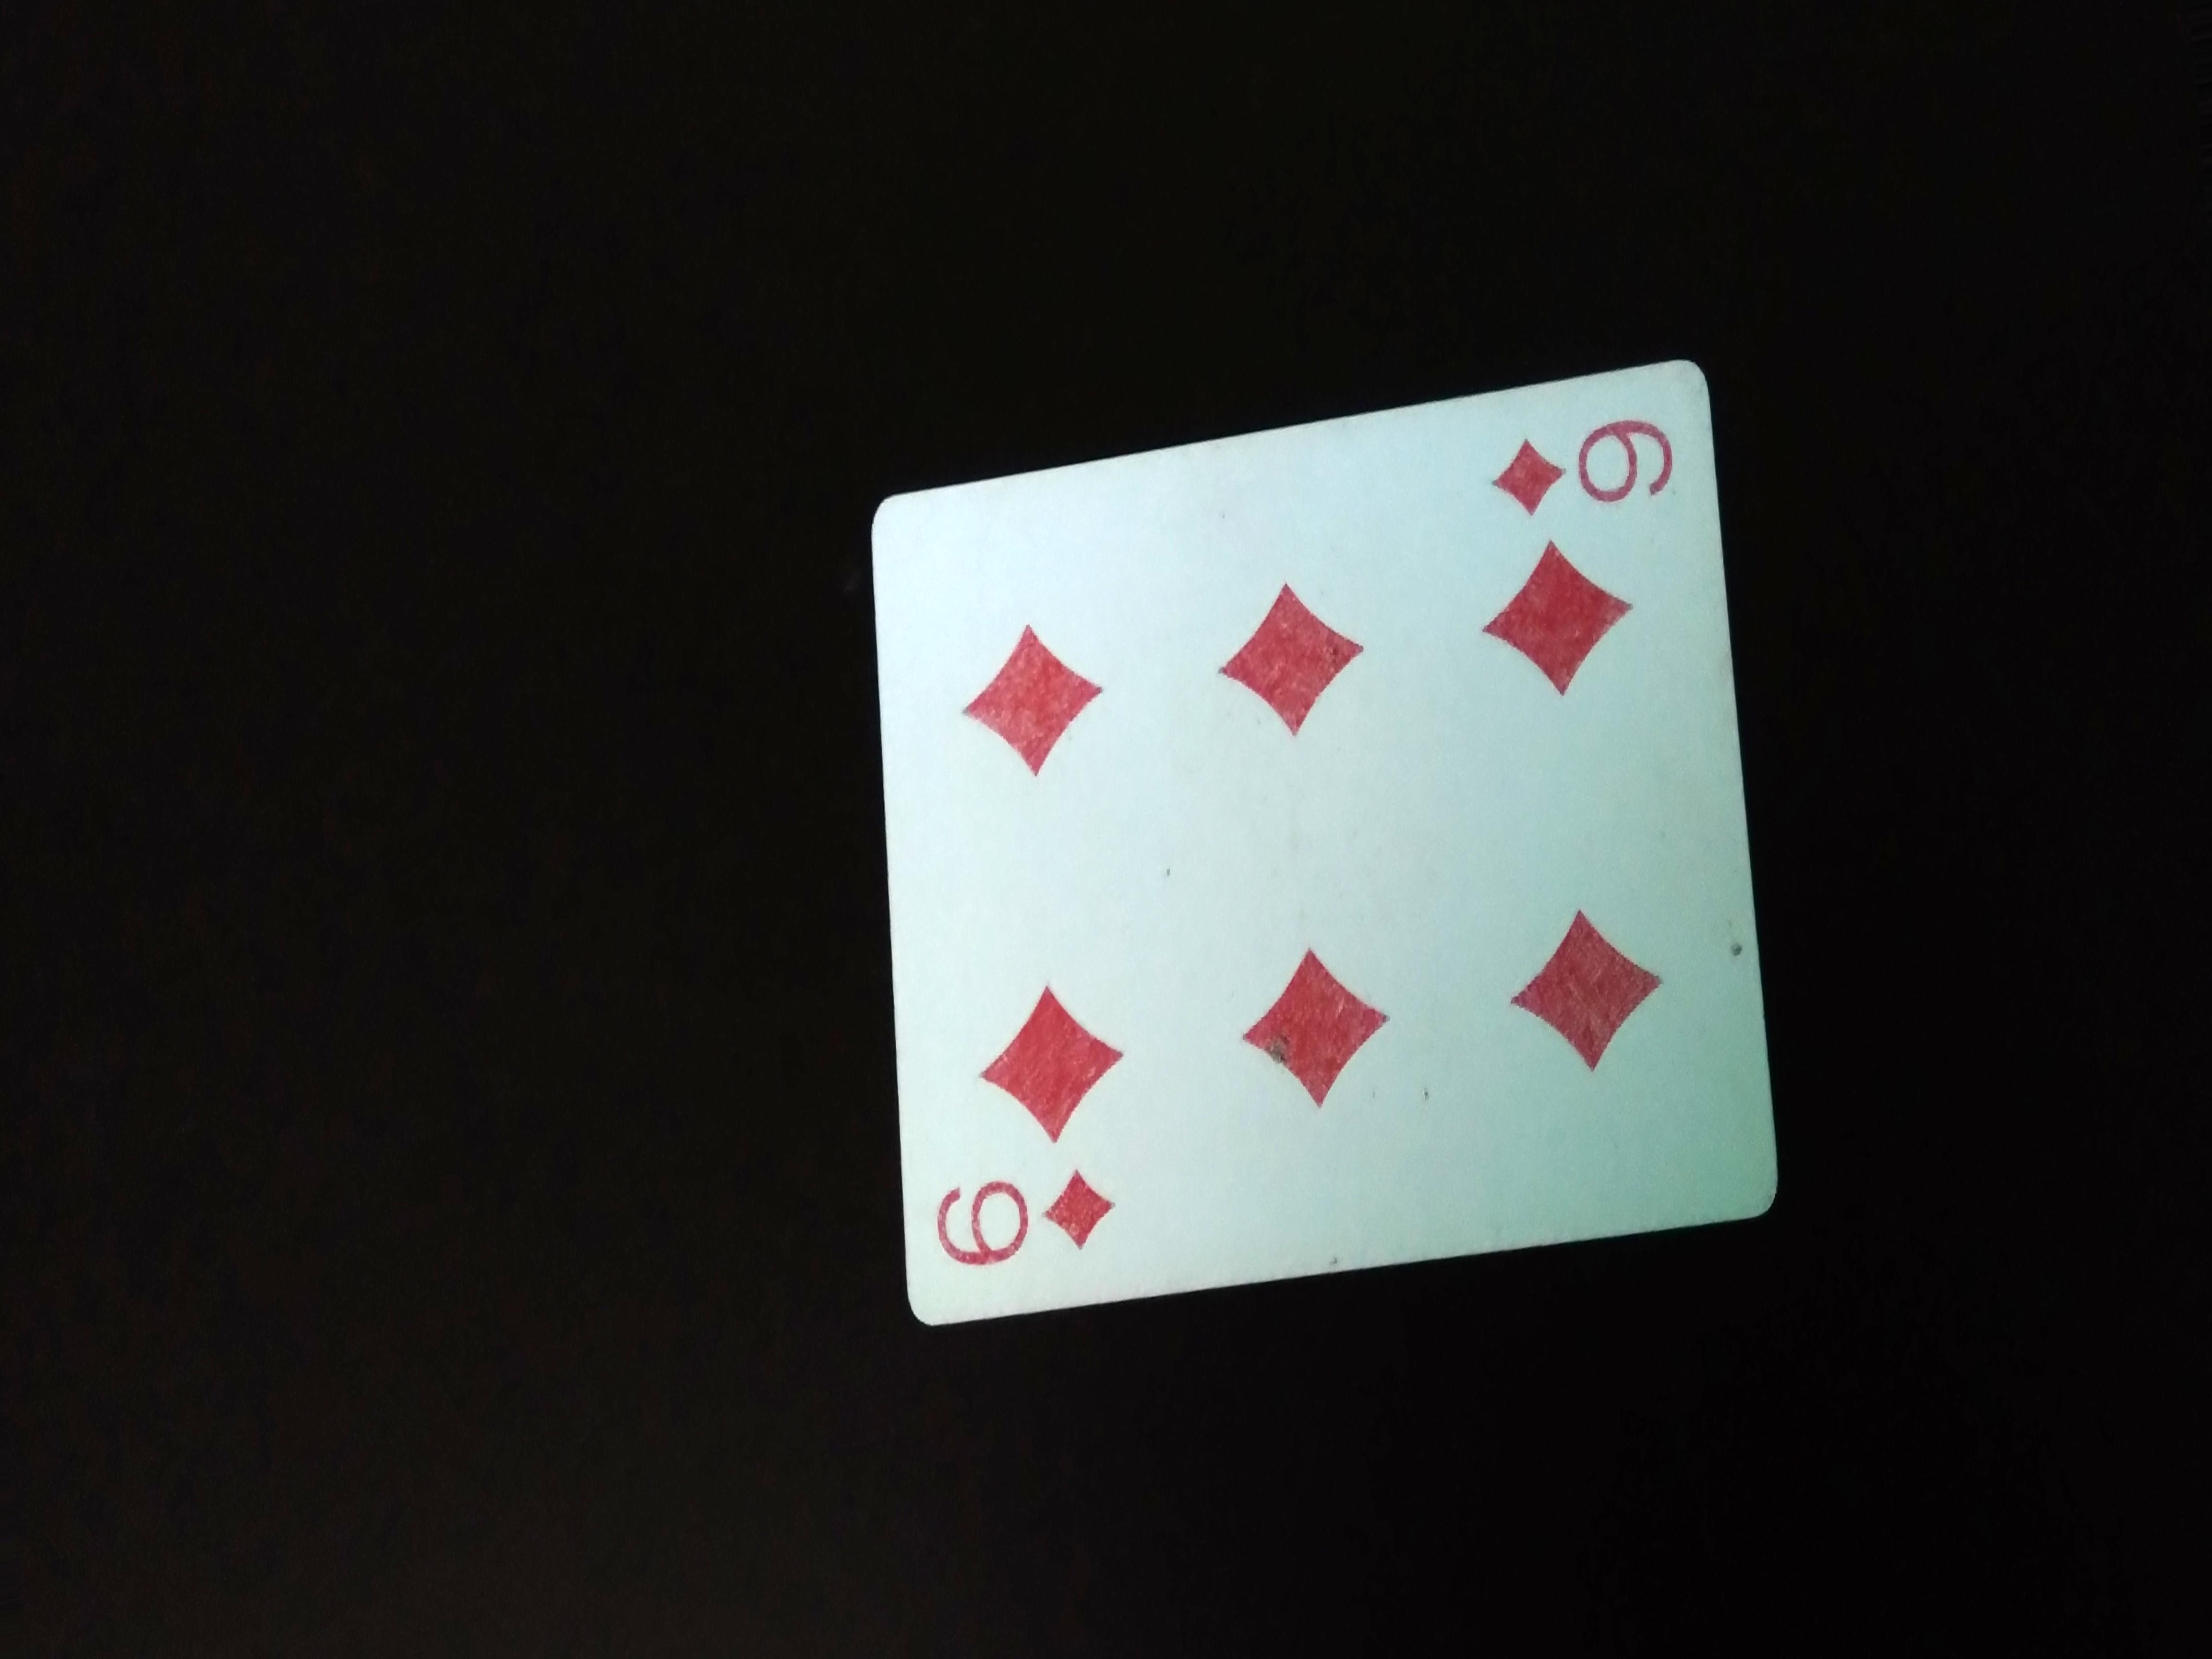6D: (1484, 413, 1709, 519)
